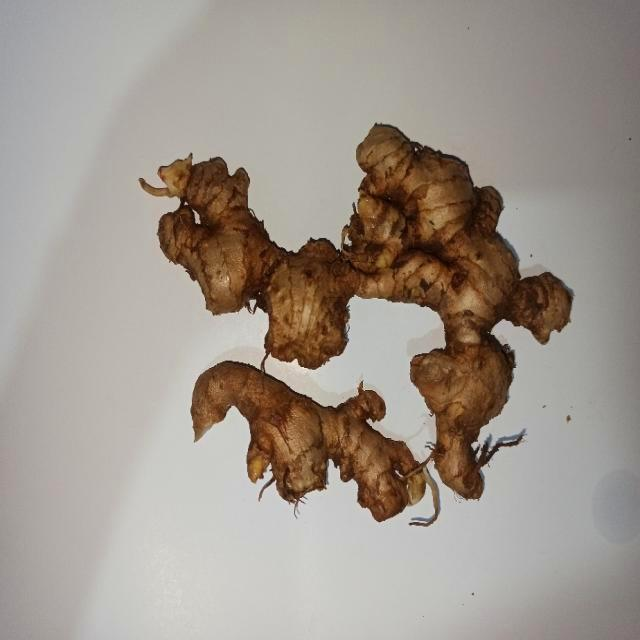ginger: (352, 127, 572, 501), (193, 369, 418, 522), (163, 163, 337, 360)
